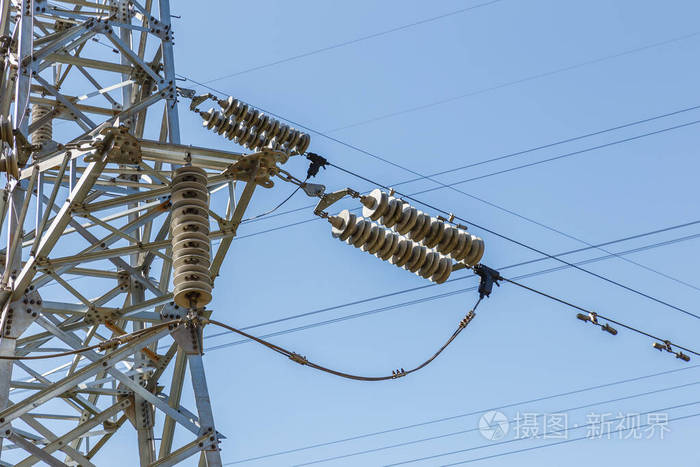insulator: (365, 188, 486, 269), (333, 210, 452, 286), (164, 163, 218, 311), (223, 96, 312, 151), (204, 109, 282, 153)
